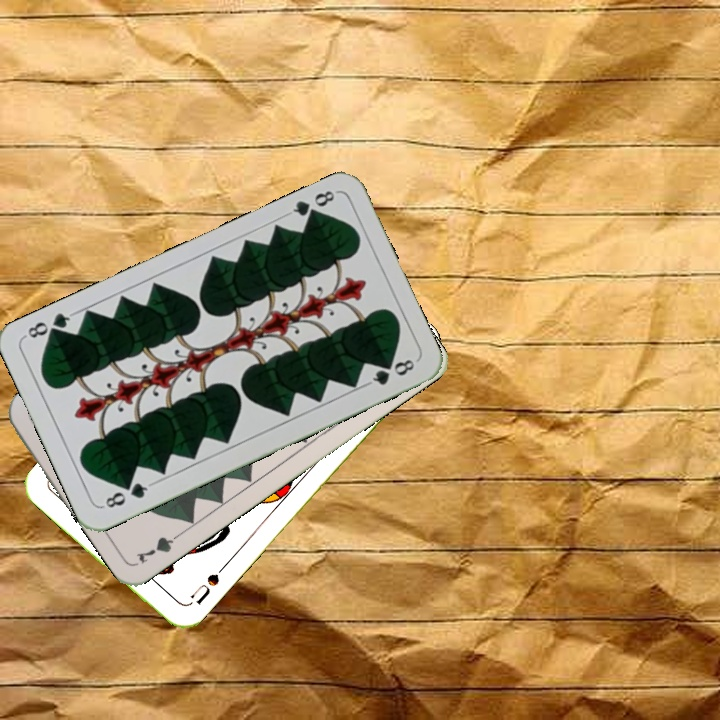G7: (132, 526, 187, 566)
G8: (283, 186, 337, 223), (98, 478, 154, 511)
SU: (186, 561, 228, 607)
